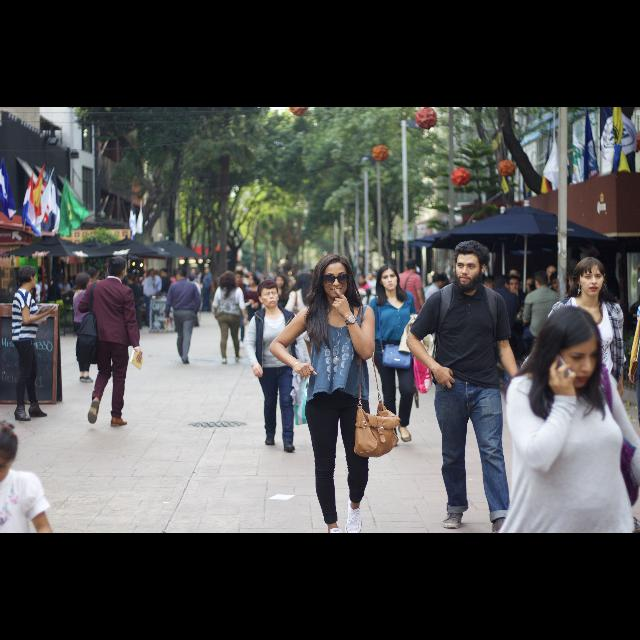head: (542, 306, 602, 390), (320, 256, 350, 298), (456, 248, 486, 288), (576, 257, 606, 297), (1, 431, 18, 485), (258, 282, 280, 308), (107, 256, 127, 280), (18, 266, 38, 288), (379, 266, 397, 290), (494, 274, 512, 292), (75, 272, 92, 290), (535, 270, 549, 290), (300, 272, 314, 288), (433, 272, 447, 288), (222, 270, 235, 286), (87, 266, 99, 280), (175, 268, 187, 280), (274, 275, 286, 287), (234, 271, 244, 285), (407, 260, 418, 272), (248, 274, 258, 286), (126, 275, 136, 285), (160, 268, 168, 278), (358, 276, 366, 284), (149, 269, 155, 277), (189, 274, 195, 282), (190, 268, 196, 274), (204, 268, 210, 274), (368, 273, 374, 279)
person: (531, 254, 627, 508), (76, 256, 144, 428), (365, 263, 425, 449), (242, 278, 302, 452), (11, 264, 59, 424), (520, 268, 570, 379), (390, 258, 430, 388), (282, 273, 326, 371), (488, 274, 522, 390), (210, 270, 250, 364), (164, 267, 202, 365), (80, 266, 112, 379), (70, 271, 100, 385), (423, 270, 447, 372), (270, 274, 292, 344), (228, 270, 248, 344), (246, 274, 264, 344), (124, 274, 144, 332), (158, 268, 175, 329), (184, 274, 202, 330), (142, 268, 158, 328), (352, 274, 371, 320), (200, 267, 216, 313), (366, 273, 382, 317), (187, 266, 200, 312)
